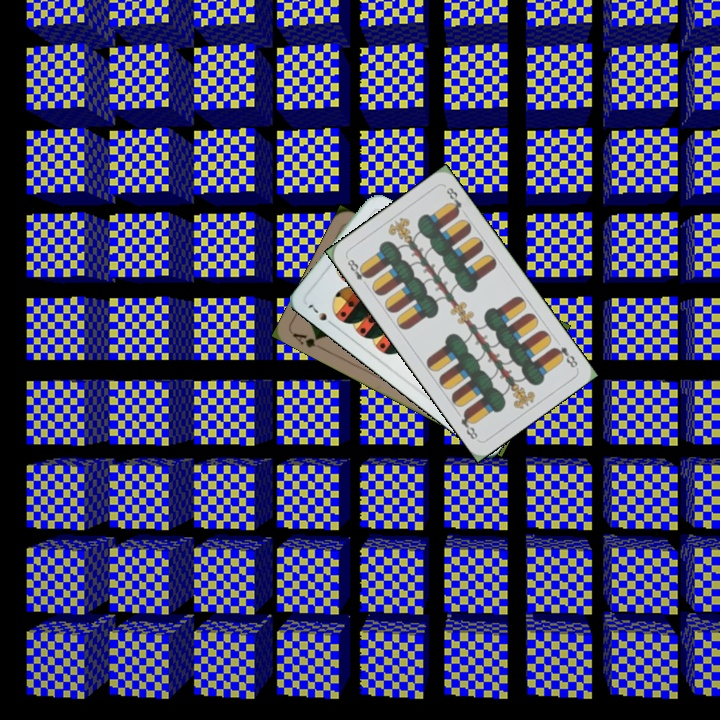E8: (343, 255, 372, 289), (549, 342, 580, 370)
GA: (289, 328, 327, 353)
S7: (303, 300, 337, 329)
